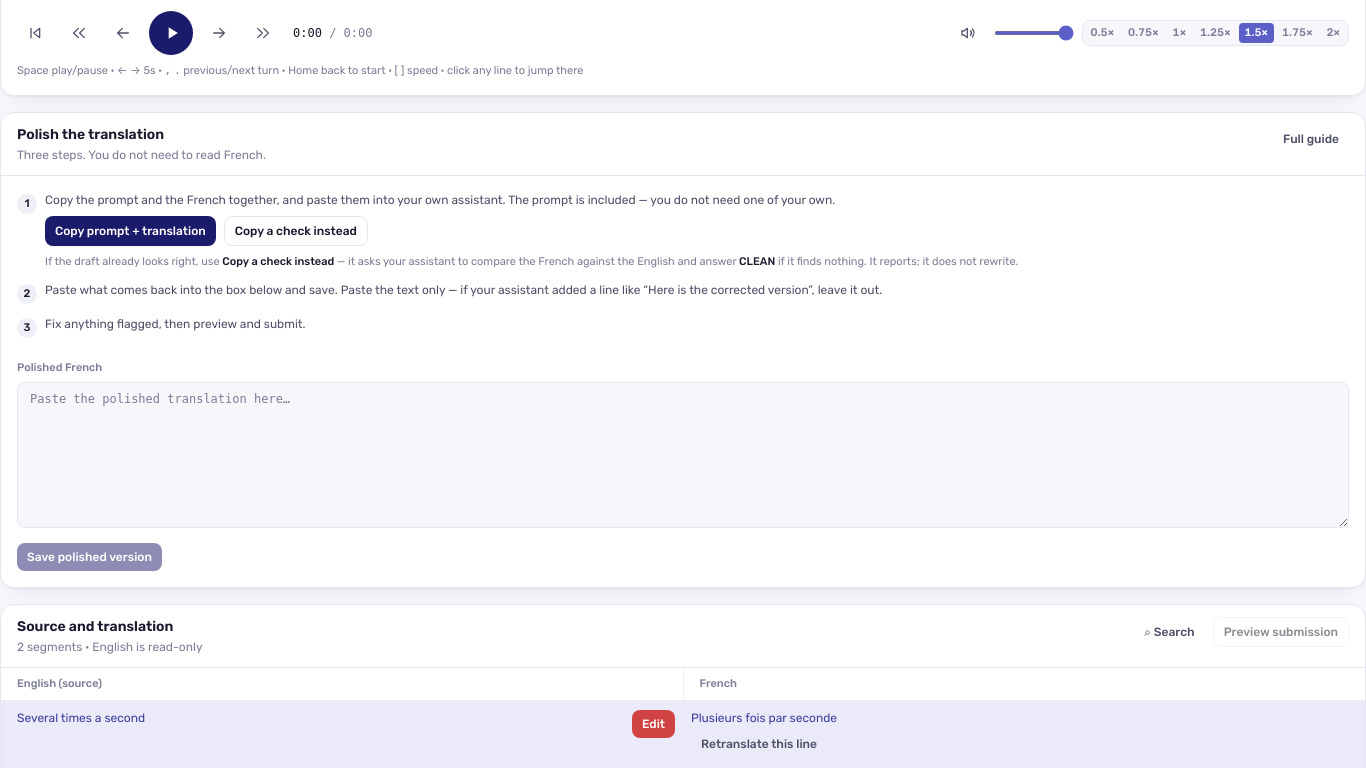
the full guide › opens on request and closes again
(page scrolled)
Expected: the text "Plusieurs fois par seconde" is shown, x1=691 y1=710 x2=837 y2=726
Expected: the dialog "Translation job guide" is not shown
Click the button "Full guide". click: (1311, 139)
box: x1=1273 y1=125 x2=1349 y2=153
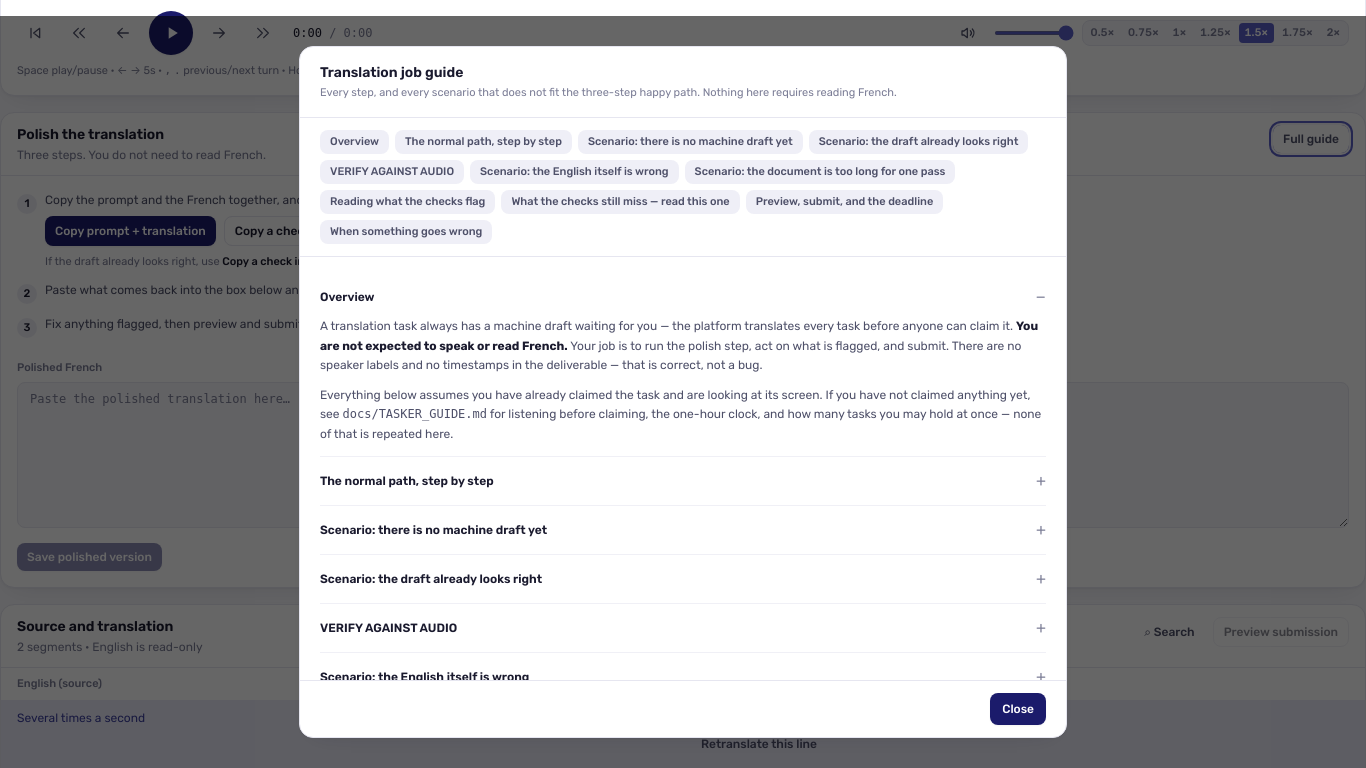
Click the button "Close". click: (1018, 709)
box: x1=990 y1=693 x2=1046 y2=725
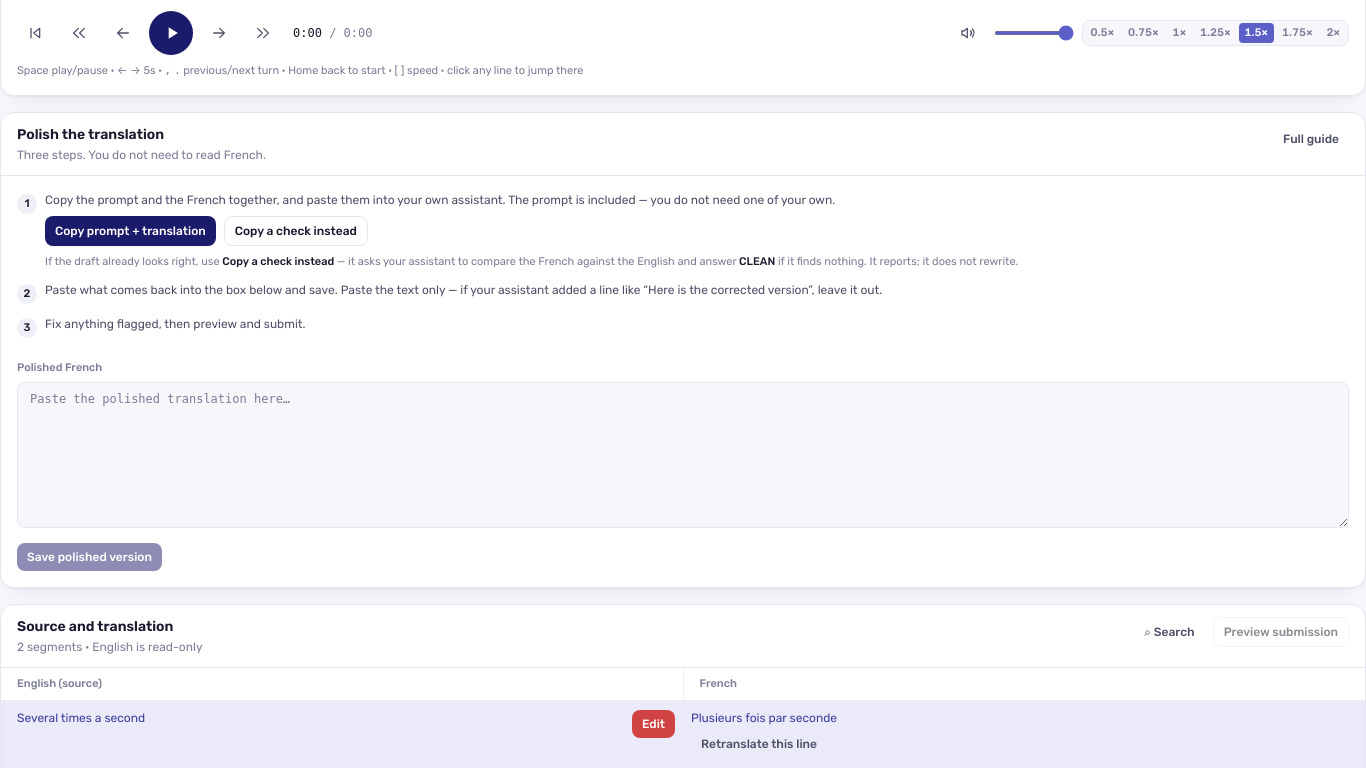
Now the heading "Translation job guide" is gone
